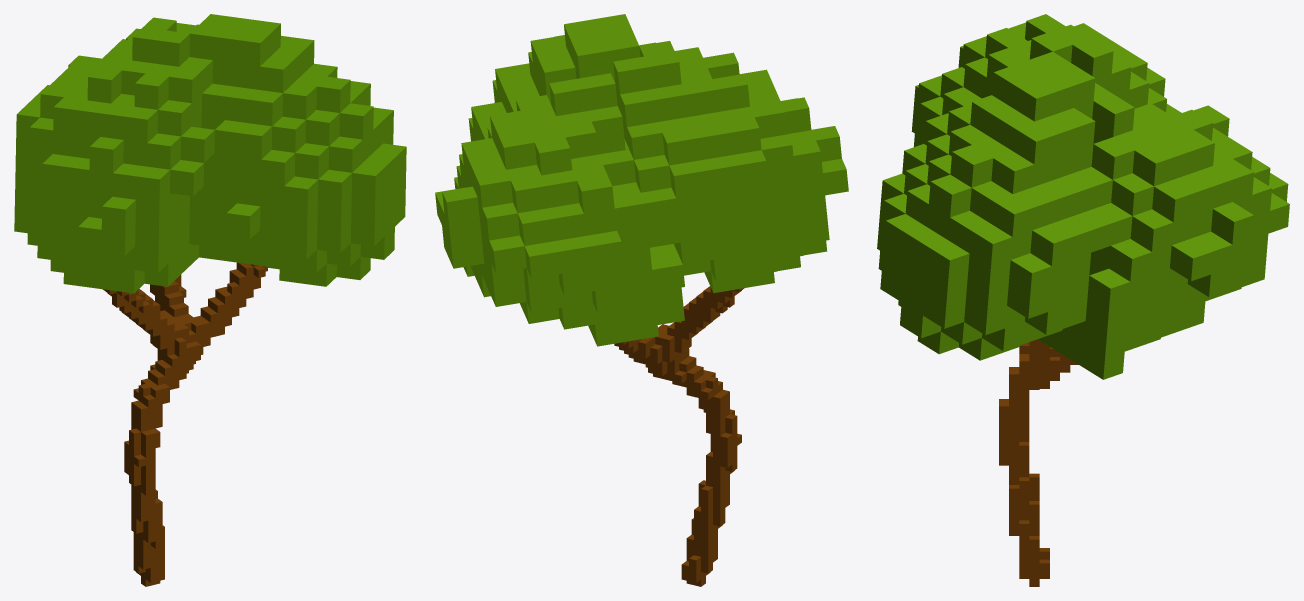
The model's file is Voxeltree_04_green.glb.
The picture shows the model from 3 angles, left to right: view 1: azimuth 30°, elevation 25°; view 2: azimuth 150°, elevation 25°; view 3: azimuth 270°, elevation 25°; orthographic projection. The views are drawn at different scales.
Visible parts, largest first — view 1: Voxeltree_04_green_Wood_0; view 2: Voxeltree_04_green_Wood_0; view 3: Voxeltree_04_green_Wood_0.
Boxes of the visible parts, left/top/right/bottom form: Voxeltree_04_green_Wood_0: left=14, top=14, right=406, bottom=586; Voxeltree_04_green_Wood_0: left=435, top=14, right=848, bottom=586; Voxeltree_04_green_Wood_0: left=877, top=14, right=1289, bottom=586.
Size of the model in its own units: 7.37 by 10.75 by 7.19.
